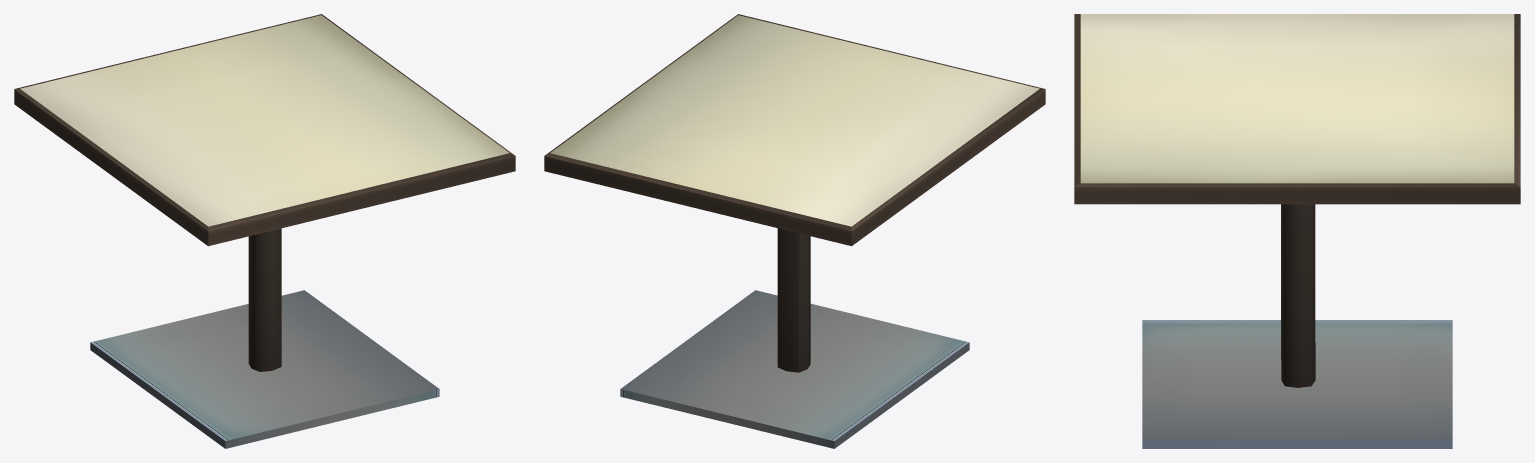
File: table04bb.fbx
The picture shows the model from 3 angles, left to right: view 1: azimuth 30°, elevation 25°; view 2: azimuth 150°, elevation 25°; view 3: azimuth 270°, elevation 25°; orthographic projection. The views are drawn at different scales.
Visible parts, largest first — view 1: table04bb; view 2: table04bb; view 3: table04bb.
Part boxes in pixels (x1,y1,x2,y2): table04bb: [14, 14, 515, 448]; table04bb: [544, 14, 1045, 448]; table04bb: [1074, 14, 1520, 448].
Bounding box in the file's own units: 0.9274 × 0.7275 × 1.01.
